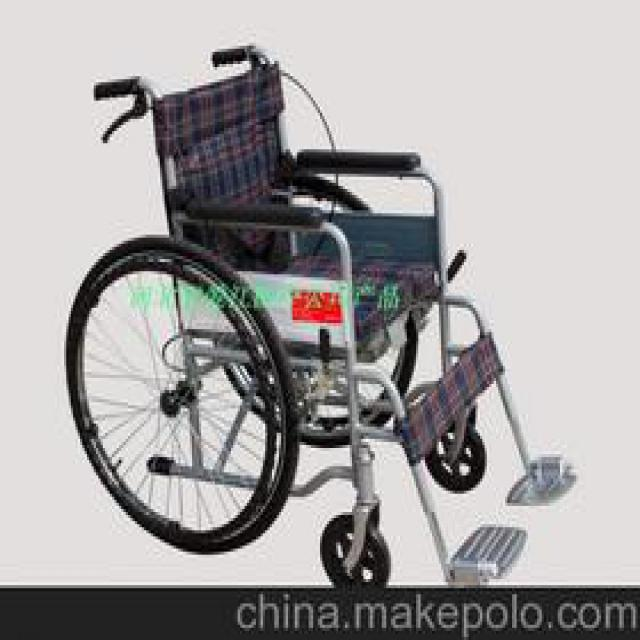wheelchair: (25, 31, 567, 586)
